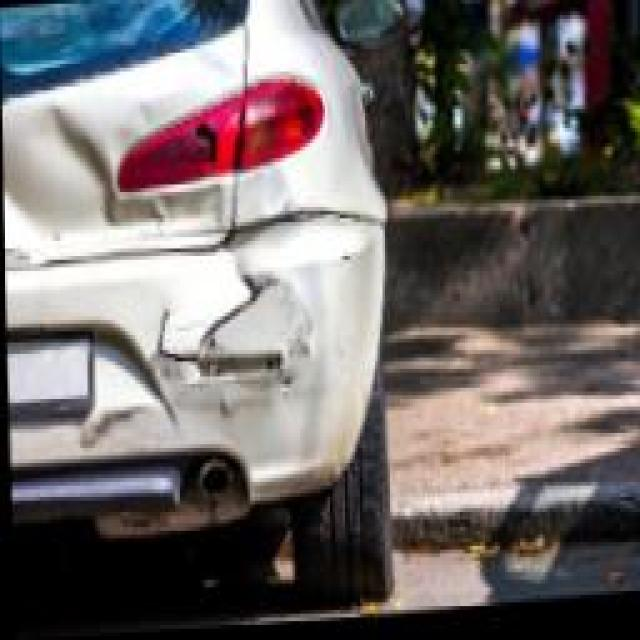Bumper: (5, 226, 420, 545)
Dickey: (0, 72, 115, 269)
Light: (110, 90, 246, 192)
